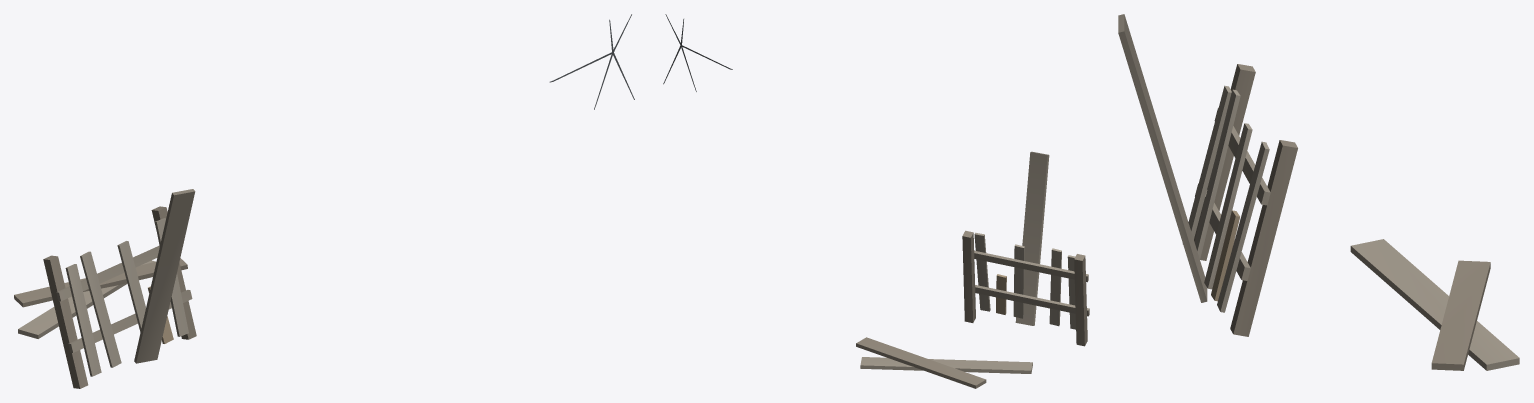
Rendered from house_worn_hut_low.glb.
3 views of the same model, side by side, from view 1: azimuth 30°, elevation 25°; view 2: azimuth 150°, elevation 25°; view 3: azimuth 270°, elevation 25° (orthographic). The views are drawn at different scales.
Size of the model in its own units: 4.41 by 1.98 by 1.86.
